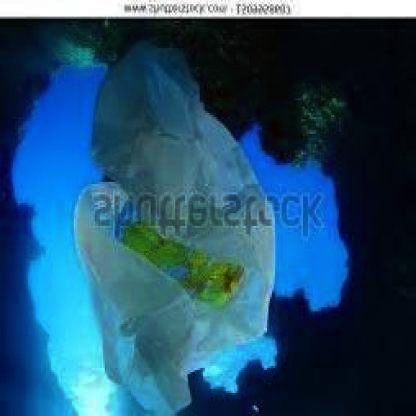pbag: (72, 42, 277, 416)
